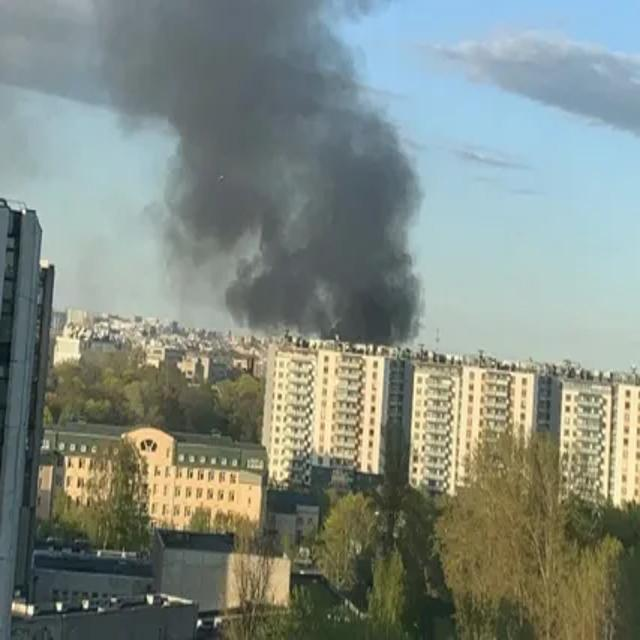Smoke: (172, 50, 426, 349)
